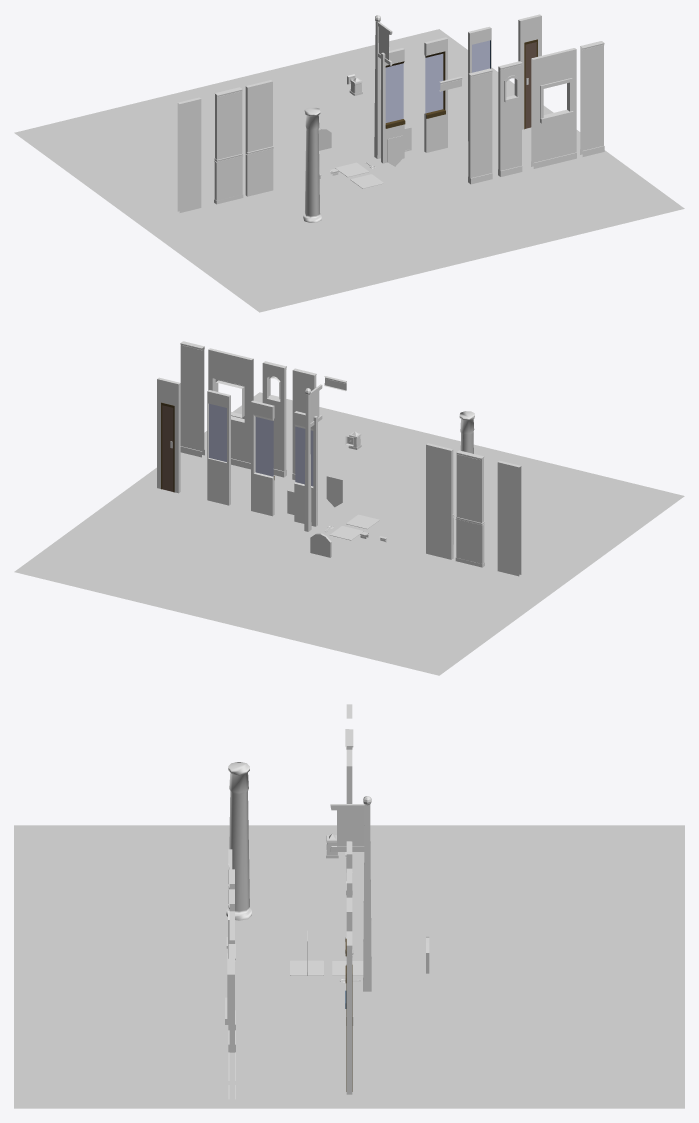
The model's file is key.fbx.
3 renders of one model, top to bottom at view 1: azimuth 30°, elevation 25°; view 2: azimuth 150°, elevation 25°; view 3: azimuth 270°, elevation 25°, orthographic. The views are drawn at different scales.
Parts seen in each view (by area): view 1: Plane, wall_nosides_1.001, deco_full_3.000, wall_side_2.001, wall_sides_win_1.001, wall_nosides_2, wall_nosides_1, wall_sides_win_1, pillar_1, wall_windowR, finish_flag, wall_windowL (+6 smaller); view 2: Plane, deco_full_3.000, wall_side_2.001, wall_nosides_1.001, wall_nosides_2, wall_nosides_1, wall_sides_win_1, doorframe, wall_window, wall_windowR, finish_flag, wall_windowL (+6 smaller); view 3: Plane, finish_flag, pillar_1, doorframe, wall_nosides_1.001.
Part boxes in pixels (x1,y1,x2,y2): Plane: [14, 29, 684, 312]; wall_nosides_1.001: [531, 48, 576, 168]; deco_full_3.000: [214, 87, 243, 204]; wall_side_2.001: [245, 80, 273, 196]; wall_sides_win_1.001: [468, 68, 492, 184]; wall_nosides_2: [177, 97, 201, 212]; wall_nosides_1: [580, 42, 604, 156]; wall_sides_win_1: [498, 61, 522, 176]; pillar_1: [303, 107, 321, 222]; wall_windowR: [424, 37, 447, 152]; finish_flag: [374, 15, 392, 158]; wall_windowL: [381, 48, 405, 163]; Plane: [14, 392, 684, 675]; deco_full_3.000: [455, 450, 484, 567]; wall_side_2.001: [426, 443, 454, 559]; wall_nosides_1.001: [208, 348, 253, 469]; wall_nosides_2: [497, 460, 521, 576]; wall_nosides_1: [180, 341, 204, 457]; wall_sides_win_1: [262, 361, 286, 477]; doorframe: [157, 377, 180, 493]; wall_window: [207, 390, 230, 505]; wall_windowR: [251, 400, 274, 516]; finish_flag: [304, 384, 322, 531]; wall_windowL: [294, 411, 317, 526]; Plane: [14, 825, 684, 1108]; finish_flag: [330, 796, 371, 991]; pillar_1: [226, 762, 251, 920]; doorframe: [346, 931, 352, 1094]; wall_nosides_1.001: [225, 911, 235, 1080].
Size of the model in its own units: 1225 by 447 by 1225.
